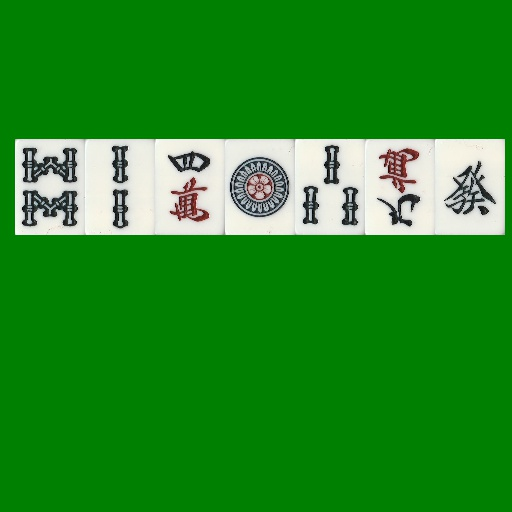1p: (225, 139, 295, 235)
2s: (85, 139, 155, 235)
3s: (295, 139, 365, 235)
4m: (155, 139, 225, 235)
8s: (15, 139, 85, 235)
9m: (365, 139, 435, 235)
hatsu: (435, 139, 505, 235)
